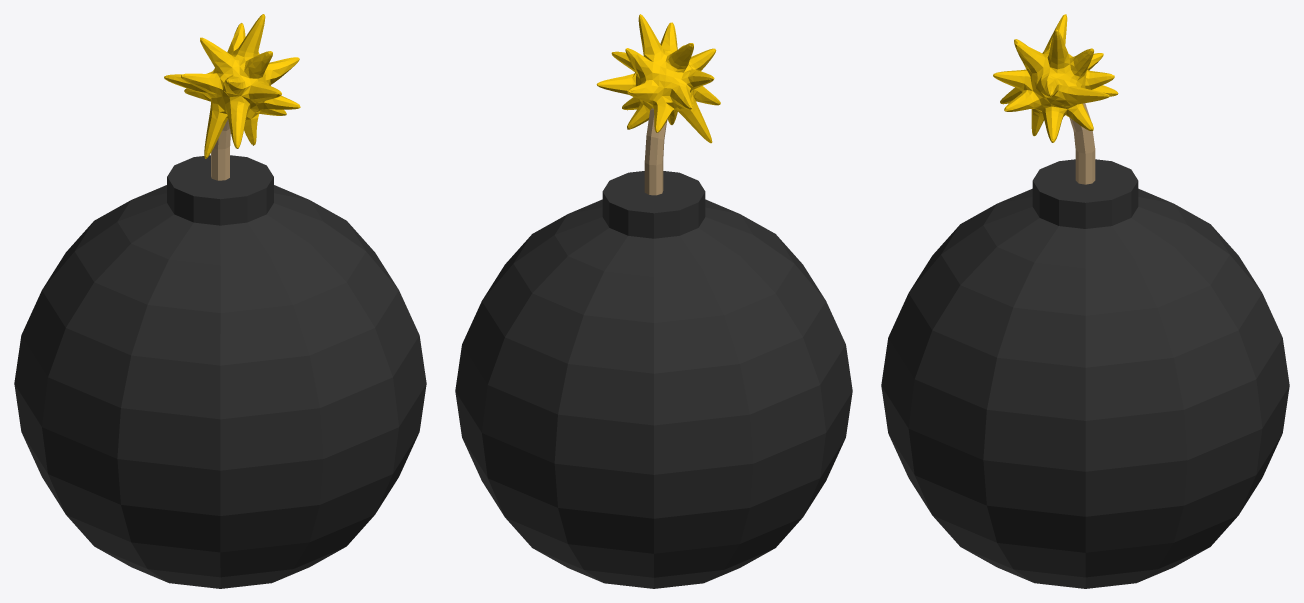
File: 4b8dd6dc-8fd7-4dce-bbe7-d05734bf84e9.glb
3 renders of one model, left to right at view 1: azimuth 30°, elevation 25°; view 2: azimuth 150°, elevation 25°; view 3: azimuth 270°, elevation 25°, orthographic. The views are drawn at different scales.
Parts seen in each view (by area): view 1: Node; view 2: Node; view 3: Node.
Part boxes in pixels (left/top/right/bottom): Node: left=14, top=14, right=426, bottom=588; Node: left=455, top=14, right=852, bottom=588; Node: left=881, top=14, right=1289, bottom=588.
Size of the model in its own units: 2 by 3 by 2.
